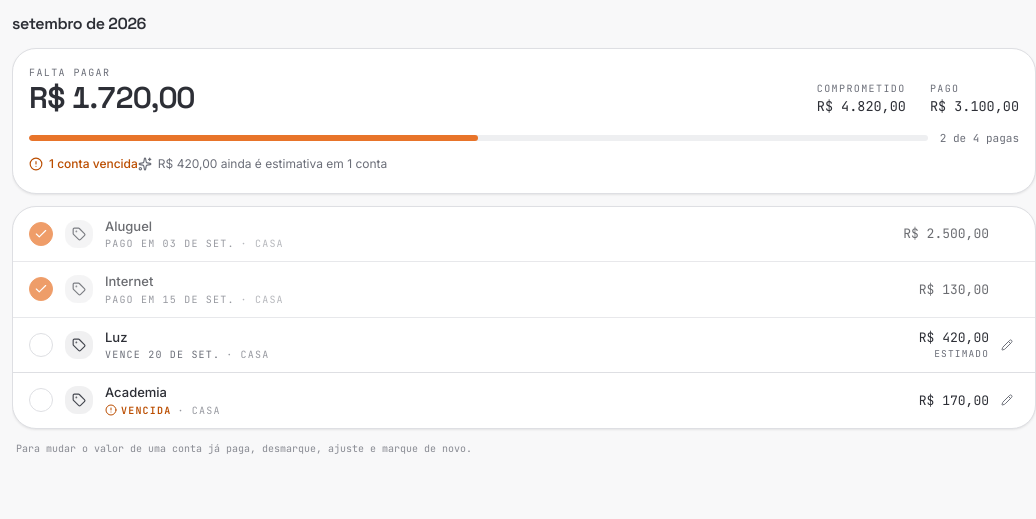
Test: monthly commitment · pay and unpay › leaves the rendered state alone when a write fails
Click the button named "Marcar Academia como paga": {"x": 41, "y": 400} [29,388,53,412]
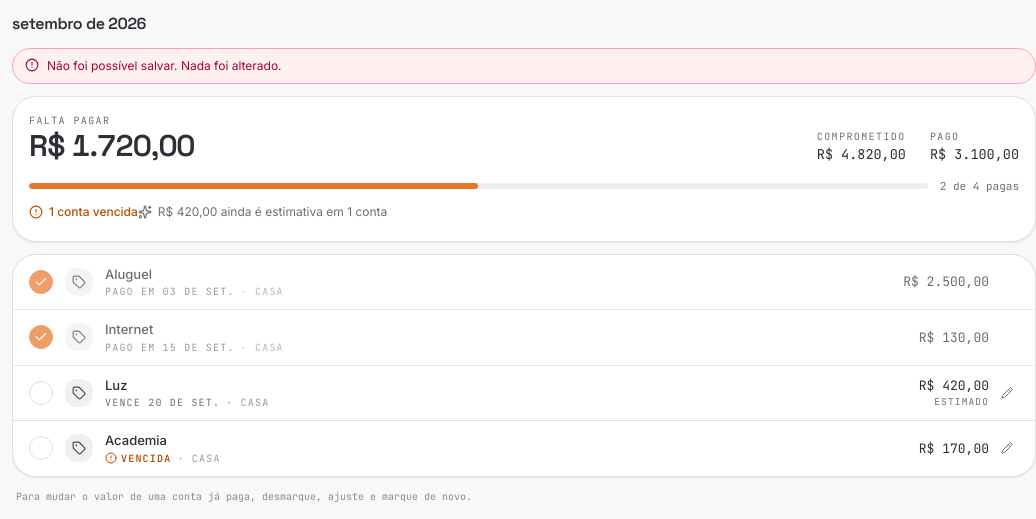
Check: the button named "Marcar Academia como paga" is shown, box [29,436,53,460]
Check: the text "Não foi possível salvar. Nada foi alterado." is shown, box [47,58,282,73]
